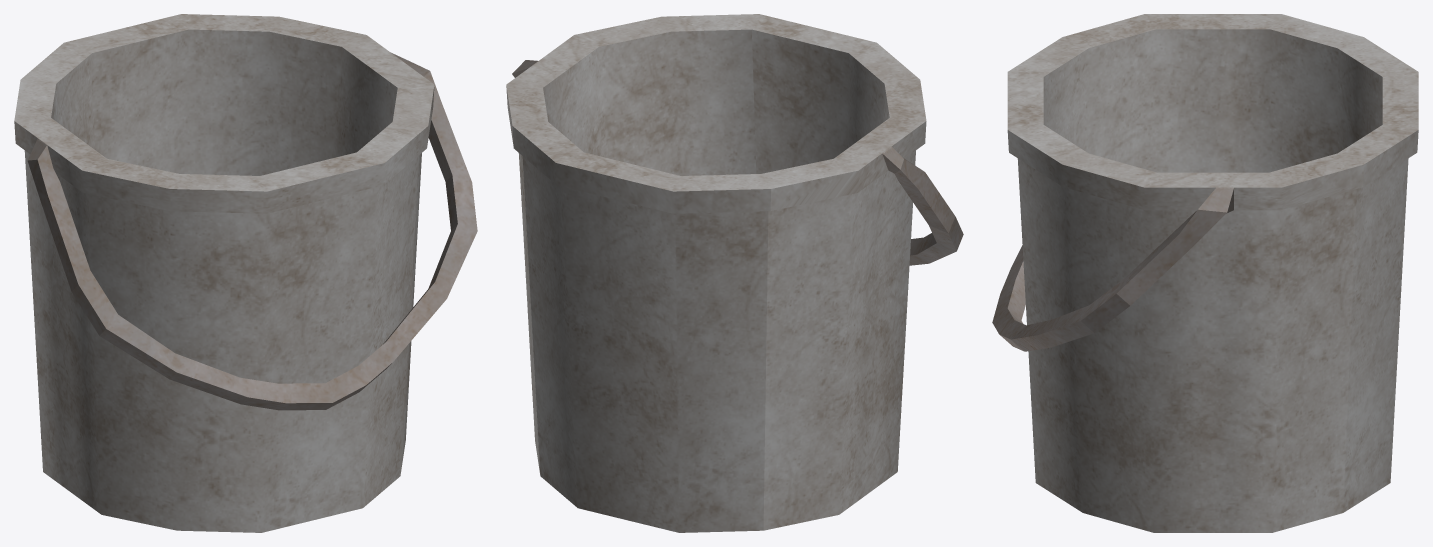
The model's file is Bucket.fbx.
The picture shows the model from 3 angles, left to right: view 1: azimuth 30°, elevation 25°; view 2: azimuth 150°, elevation 25°; view 3: azimuth 270°, elevation 25°; orthographic projection.
Visible parts, largest first — view 1: pCube24; view 2: pCube24; view 3: pCube24.
Part boxes in pixels (x1,y1,x2,y2): pCube24: (14, 14, 477, 532); pCube24: (506, 14, 963, 532); pCube24: (992, 14, 1418, 532).
Size of the model in its own units: 45.31 by 39 by 42.19.
